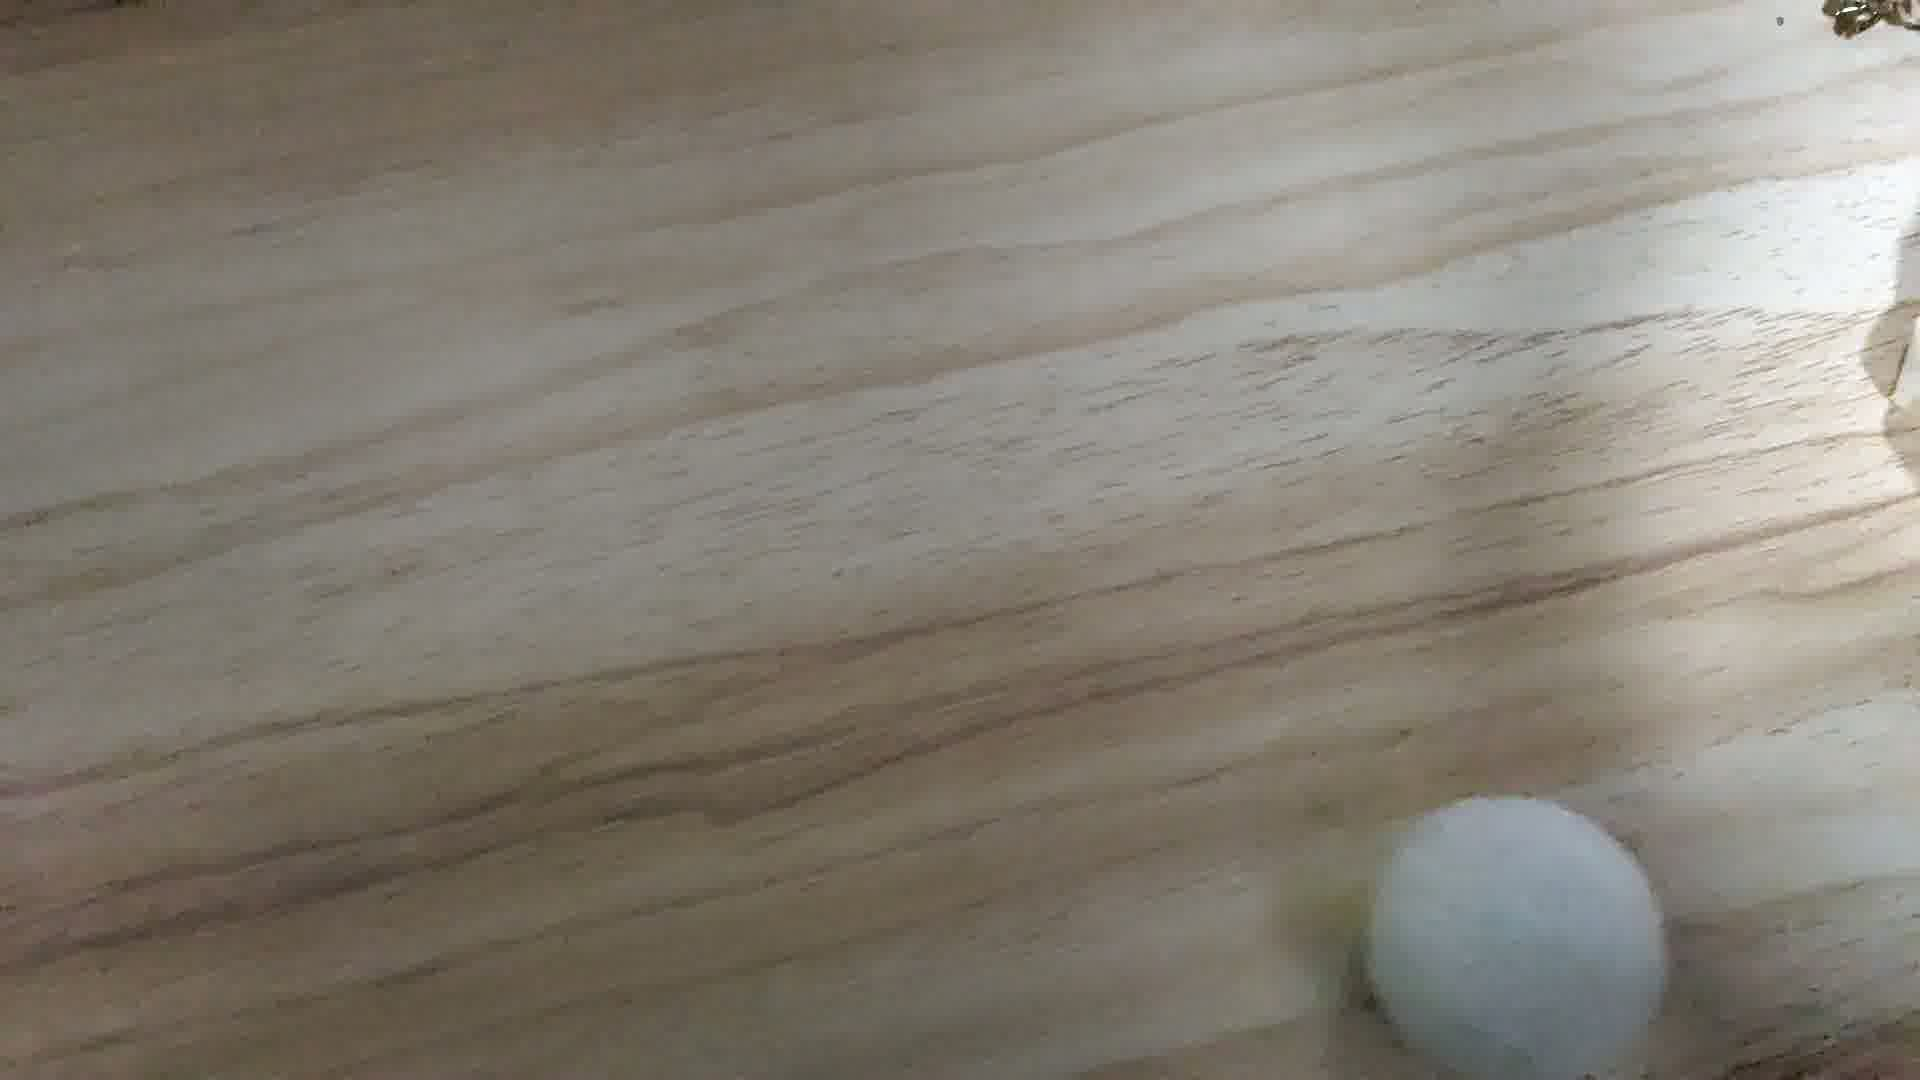Ball: (1367, 790, 1667, 1080)
